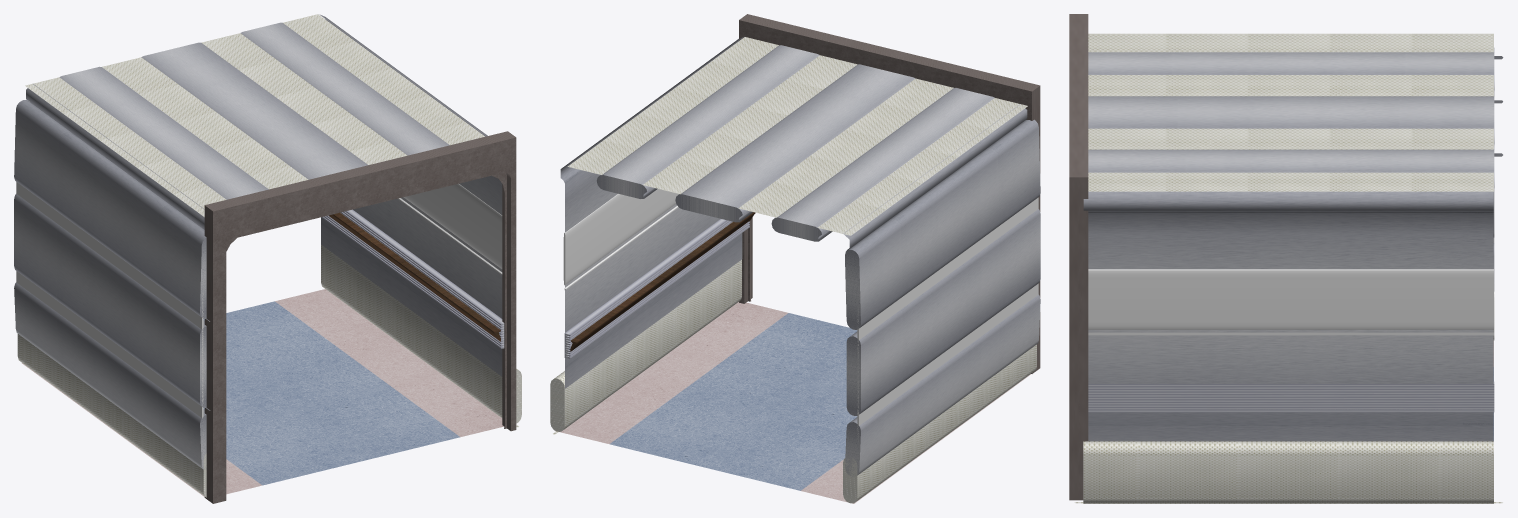
File: GalaxyCorridorStraight.fbx
The picture shows the model from 3 angles, left to right: view 1: azimuth 30°, elevation 25°; view 2: azimuth 150°, elevation 25°; view 3: azimuth 270°, elevation 25°; orthographic projection. The views are drawn at different scales.
Visible parts, largest first — view 1: Plane35, Plane36, Box198, ChamferBox71, ChamferBox70, Plane38, ChamferBox57, ChamferBox72, ChamferBox60, ChamferBox56, ChamferBox55, ChamferBox58 (+6 smaller); view 2: Plane35, Plane36, ChamferBox71, ChamferBox70, Plane38, ChamferBox57, ChamferBox72, Box198, ChamferBox60, ChamferBox55, ChamferBox56, ChamferBox58 (+7 smaller); view 3: Plane38, Plane36, ChamferBox60, ChamferBox61, ChamferBox57, ChamferBox56, ChamferBox55, Box198, Box224, Box218, Box214, Box220 (+9 smaller).
Boxes of the visible parts, left/top/right/bottom form: Plane35: left=22, top=289, right=503, bottom=496; Plane36: left=25, top=14, right=484, bottom=216; Box198: left=204, top=131, right=516, bottom=503; ChamferBox71: left=14, top=100, right=209, bottom=321; ChamferBox70: left=14, top=194, right=210, bottom=410; Plane38: left=319, top=14, right=502, bottom=376; ChamferBox57: left=141, top=42, right=368, bottom=179; ChamferBox72: left=14, top=282, right=206, bottom=469; ChamferBox60: left=321, top=244, right=521, bottom=427; ChamferBox56: left=240, top=22, right=449, bottom=155; ChamferBox55: left=59, top=66, right=268, bottom=199; ChamferBox58: left=17, top=334, right=206, bottom=497; Plane35: left=560, top=302, right=1030, bottom=503; Plane36: left=567, top=37, right=1027, bottom=235; ChamferBox71: left=845, top=119, right=1040, bottom=329; ChamferBox70: left=846, top=209, right=1040, bottom=416; Plane38: left=560, top=37, right=743, bottom=388; ChamferBox57: left=675, top=64, right=915, bottom=222; ChamferBox72: left=845, top=294, right=1040, bottom=476; Box198: left=739, top=14, right=1040, bottom=373; ChamferBox60: left=550, top=259, right=741, bottom=434; ChamferBox55: left=771, top=88, right=994, bottom=241; ChamferBox56: left=596, top=45, right=819, bottom=198; ChamferBox58: left=843, top=344, right=1036, bottom=503; Plane38: left=1083, top=191, right=1493, bottom=441; Plane36: left=1088, top=33, right=1493, bottom=191; ChamferBox60: left=1074, top=441, right=1502, bottom=503; ChamferBox61: left=1088, top=269, right=1493, bottom=329; ChamferBox57: left=1088, top=96, right=1502, bottom=144; ChamferBox56: left=1088, top=149, right=1502, bottom=188; ChamferBox55: left=1088, top=52, right=1503, bottom=90; Box198: left=1069, top=14, right=1088, bottom=500; Box224: left=1088, top=332, right=1494, bottom=335; Box218: left=1088, top=399, right=1494, bottom=402; Box214: left=1088, top=386, right=1494, bottom=389; Box220: left=1088, top=394, right=1494, bottom=397.
Size of the model in its own units: 26.67 by 23.2 by 28.22.
